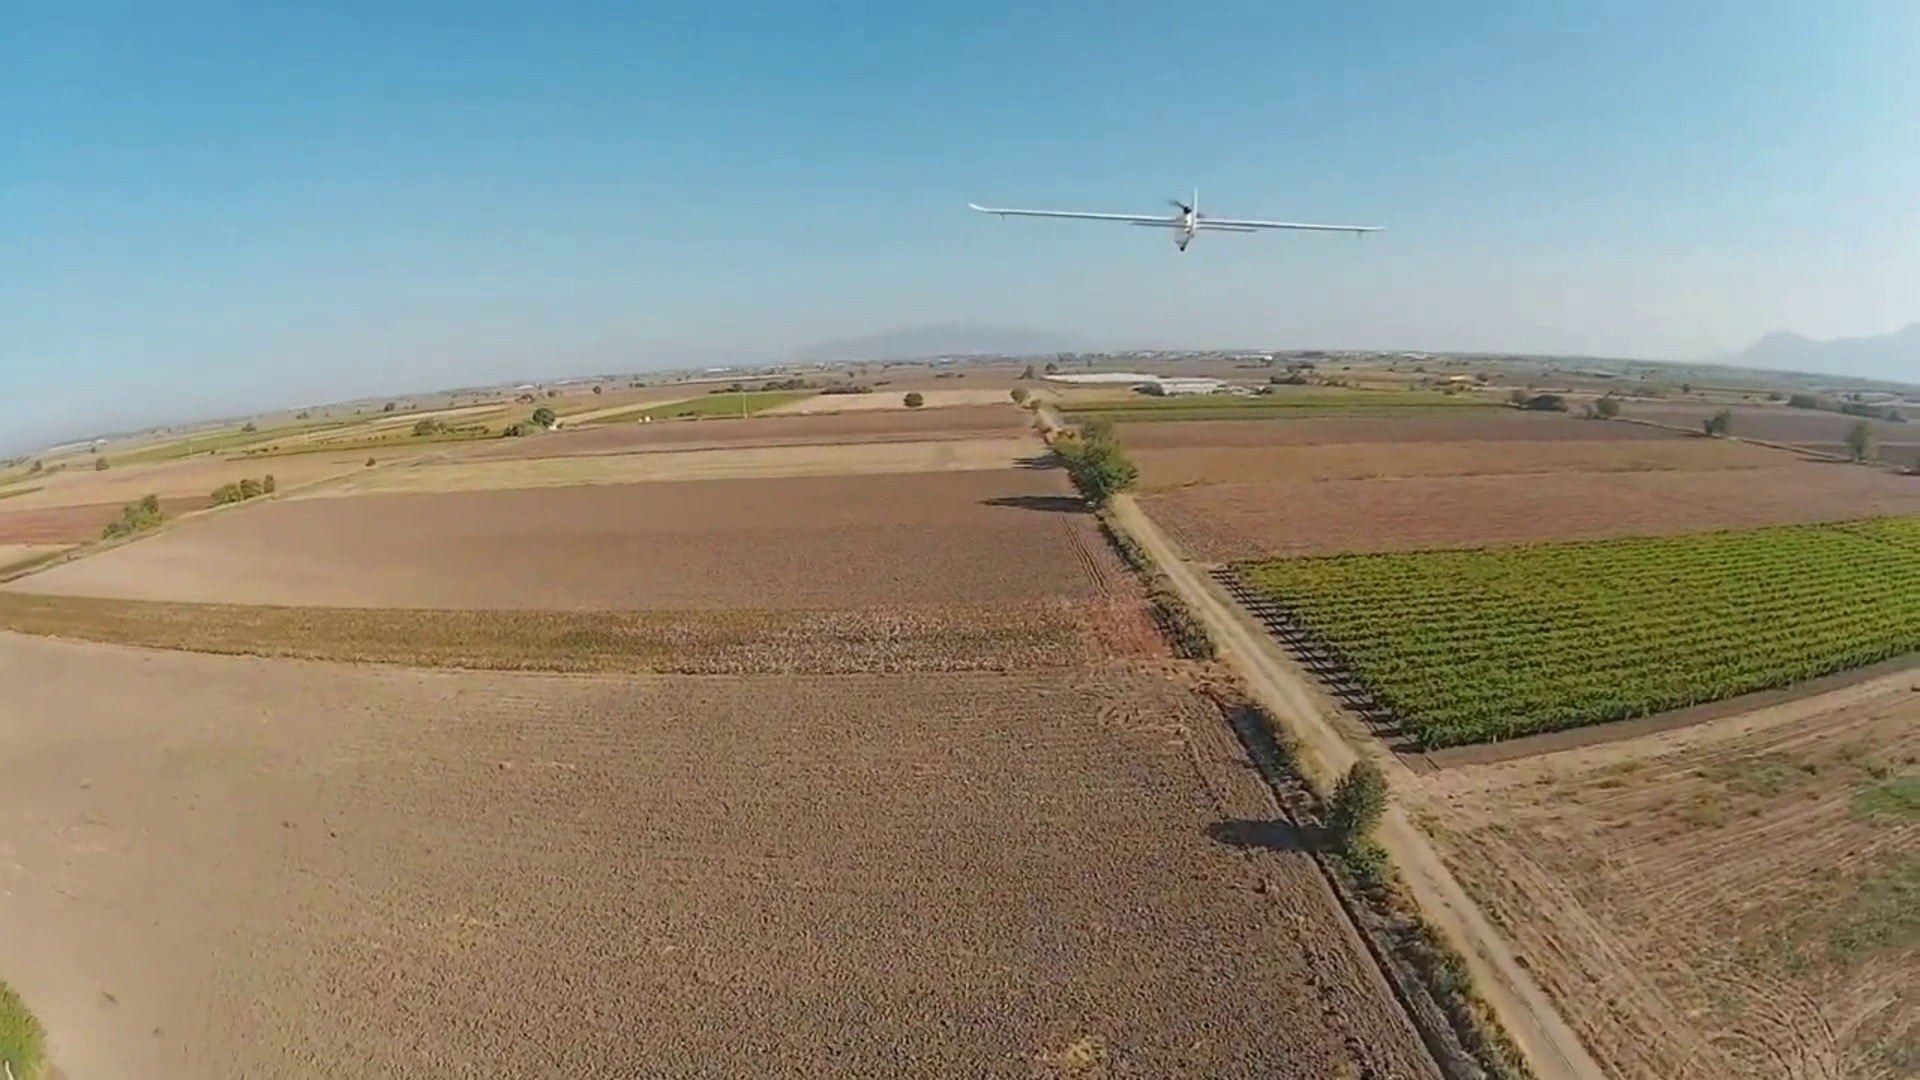airplane: (965, 193, 1379, 256)
